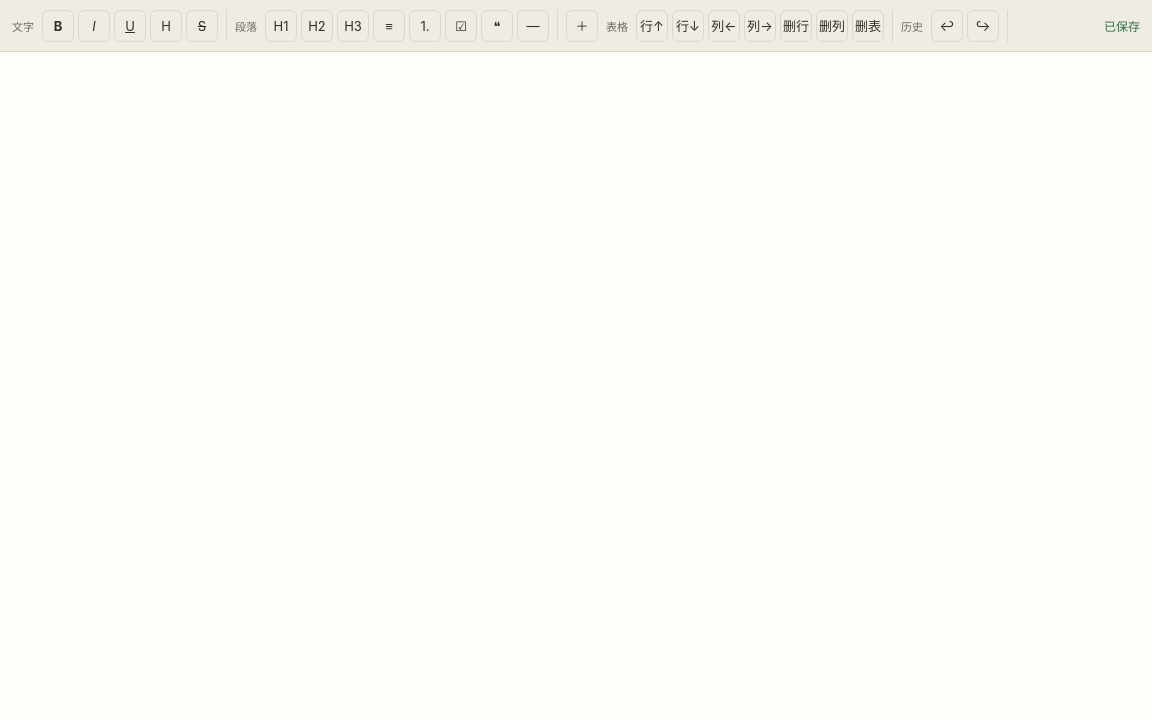
EditorToolbar table popover › closes the active popover on an outside click
Click the button named "插入内容".
click(582, 26)  # box top-left (566, 10), bottom-right (598, 42)
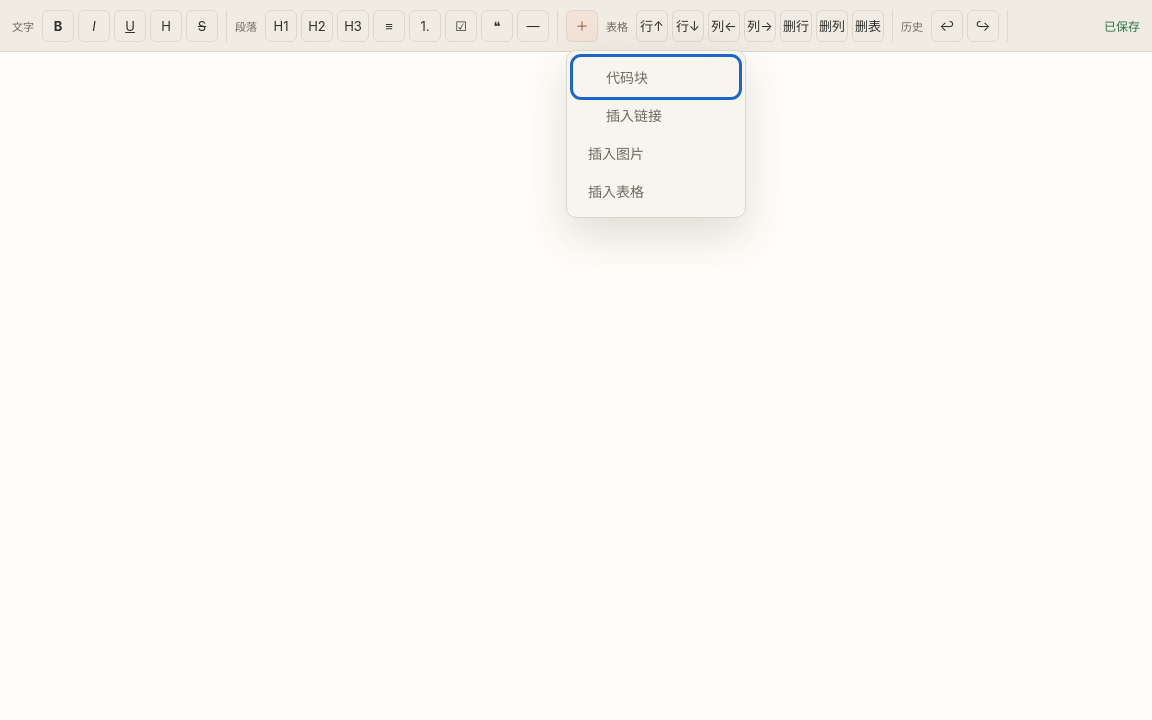
Click the menu item "插入表格".
click(656, 190)  # box top-left (575, 172), bottom-right (737, 208)
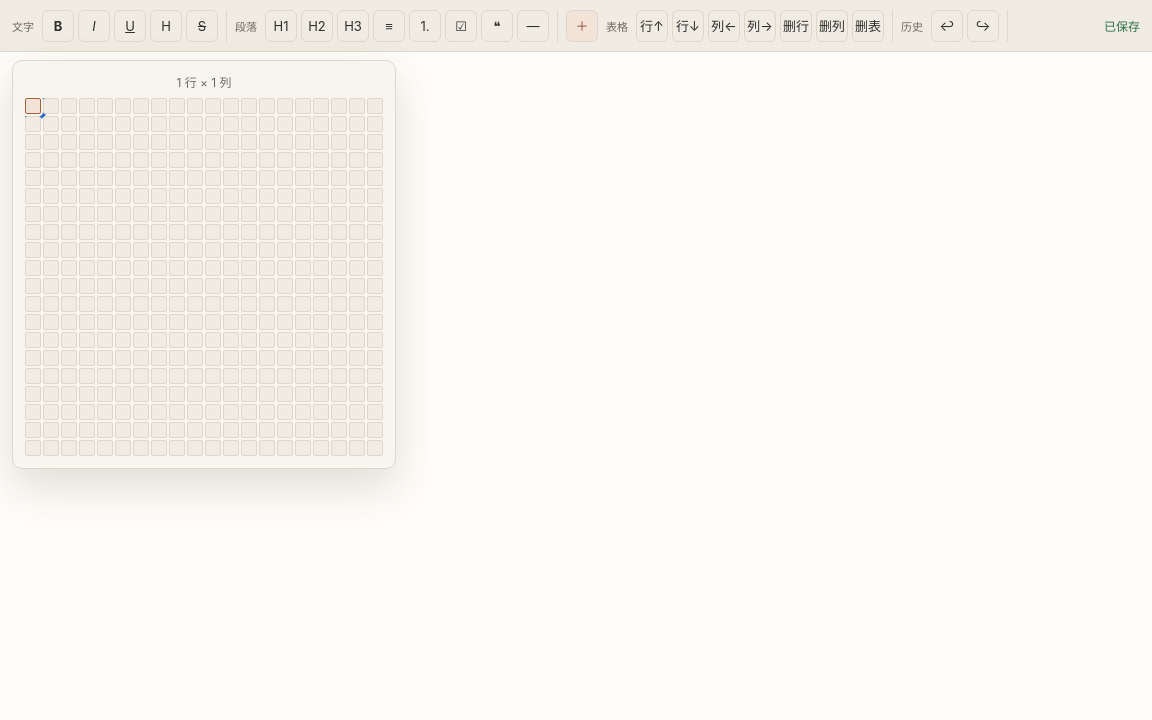
expect the dialog named "选择表格大小" is shown: met, box top-left (12, 60), bottom-right (396, 469)
Press the mouse on the element that starts with "已保存" at point(576, 360), box top-left (0, 0), bottom-right (1151, 719)
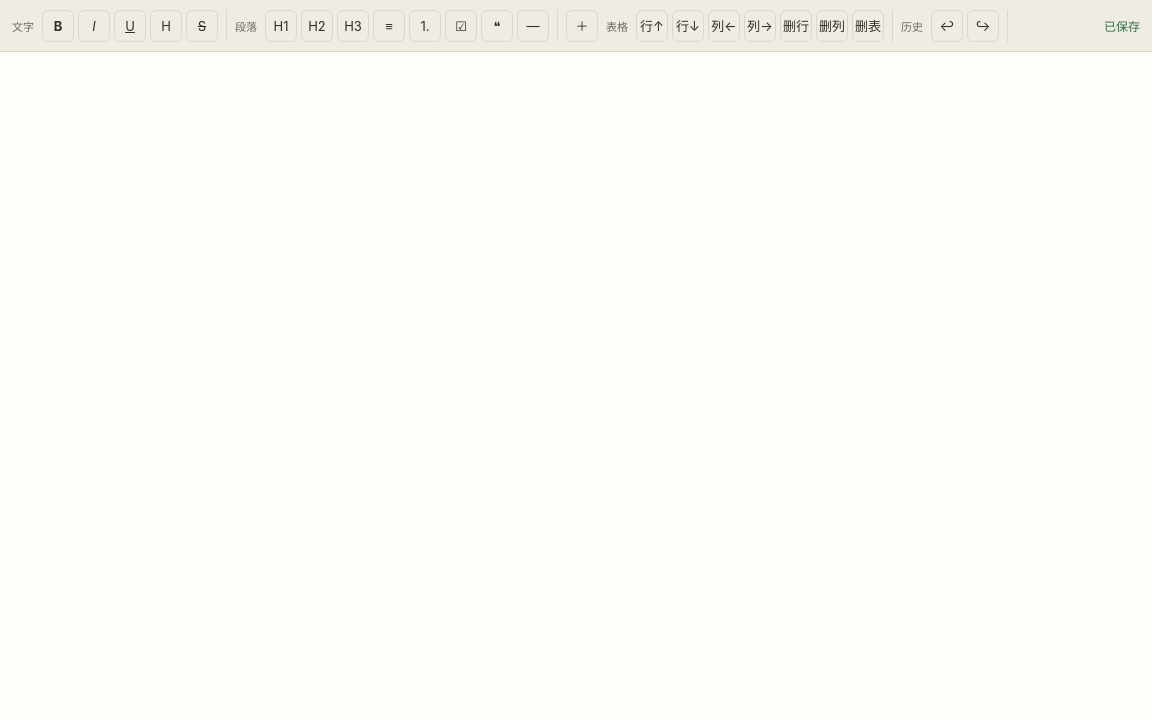
expect the dialog "选择表格大小" is gone: met
